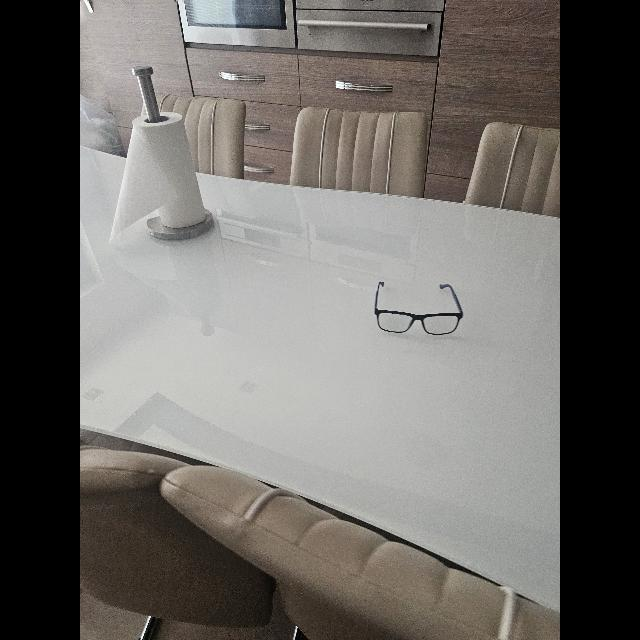glasses: (374, 282, 464, 334)
